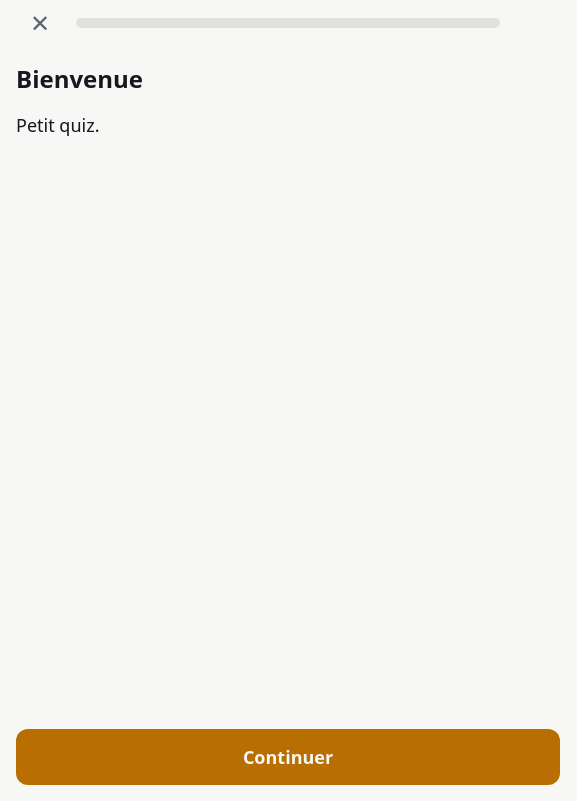
Scenario: LessonRunner — « Quelle est cette note ? » › bonne réponse : « Bravo ! » puis question suivante automatiquement
This screenshot has width=577, height=801.
Click the button "Continuer" at (288, 757), box [16,729,560,785]
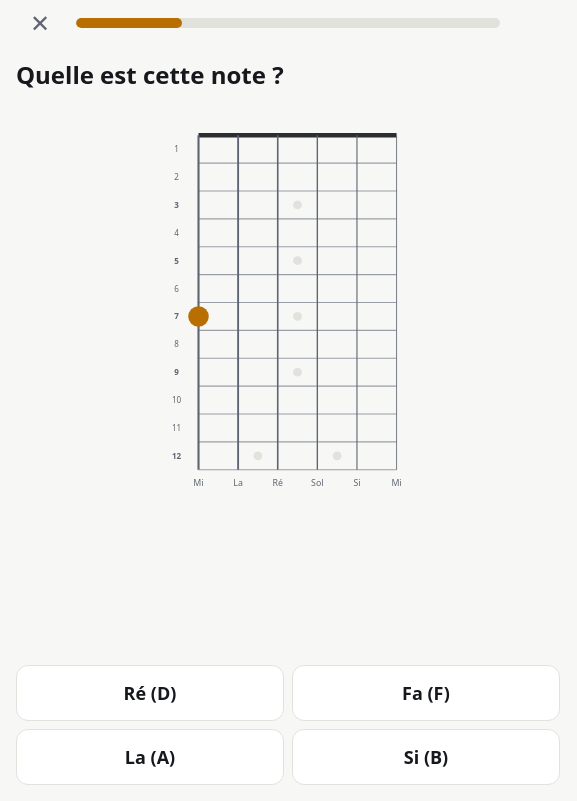
Result: the heading with test id "prompt" reads "Quelle est cette note ?" at [16,58,284,91]
Click the button "Si (B)" at (426, 757), box [292,729,560,785]
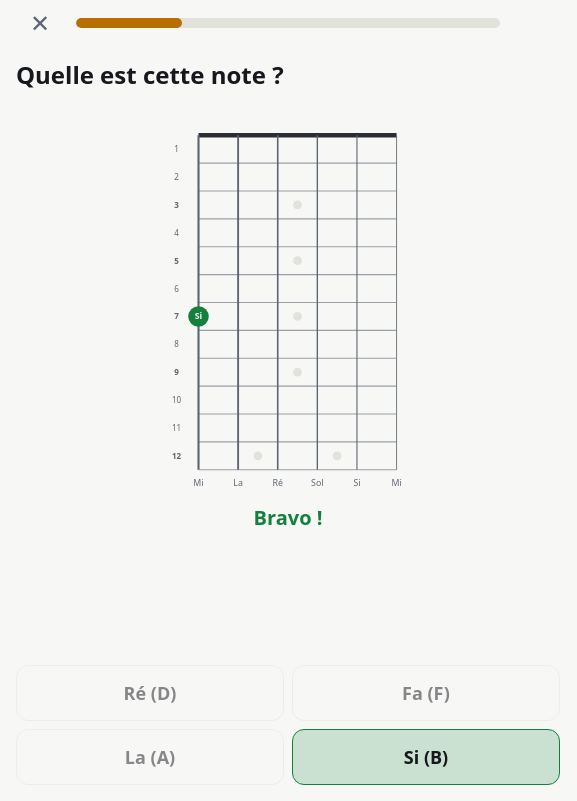
Result: the text with test id "feedback" reads "Bravo !" at [254,504,322,531]
